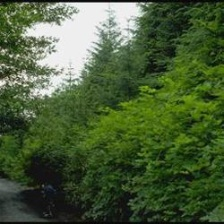neutral: (3, 3, 224, 222)
